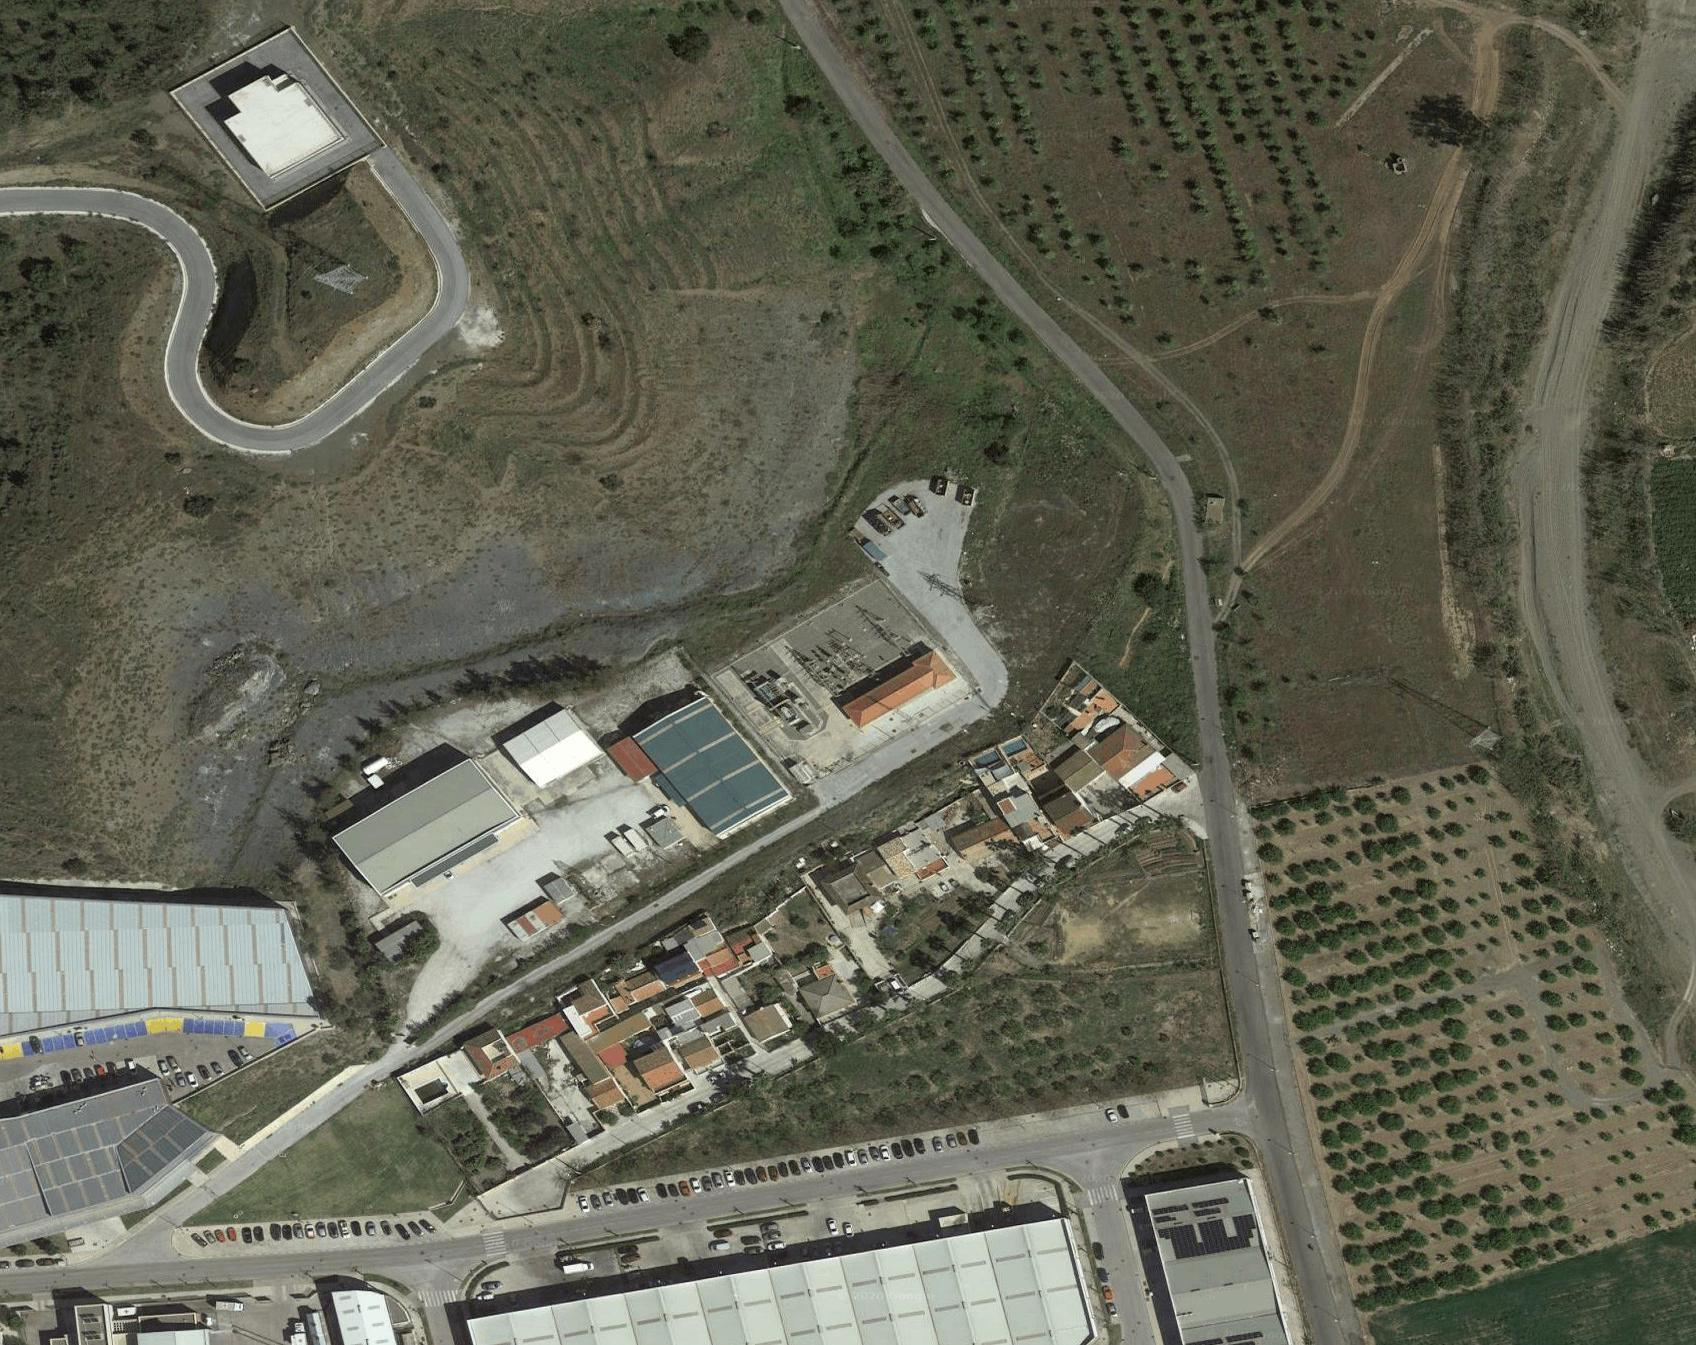substation: (734, 595, 915, 741)
